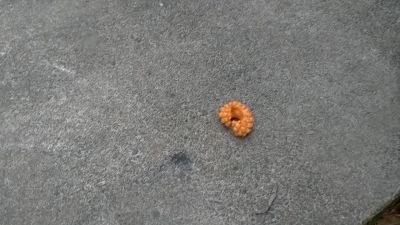eggs: (218, 100, 256, 137)
